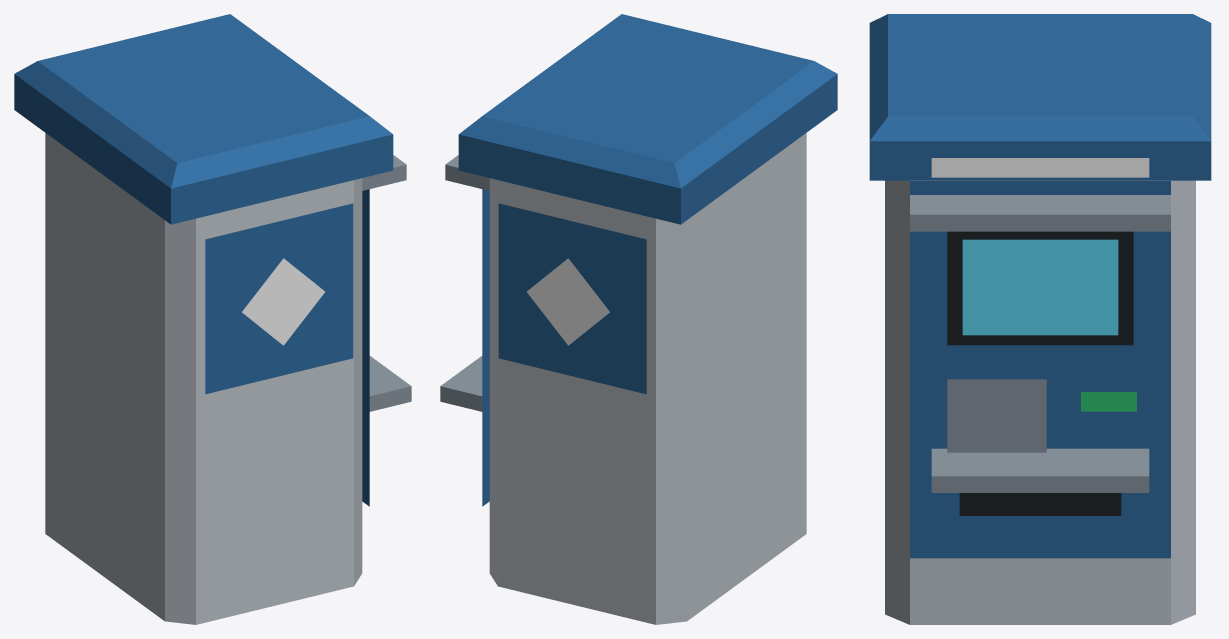
File: atm.glb
3 views of the same model, side by side, from view 1: azimuth 30°, elevation 25°; view 2: azimuth 150°, elevation 25°; view 3: azimuth 270°, elevation 25° (orthographic). The views are drawn at different scales.
Parts seen in each view (by area): view 1: atm; view 2: atm; view 3: atm.
Boxes of the visible parts, bbox=[...] form: atm: bbox=[14, 14, 411, 624]; atm: bbox=[440, 14, 837, 624]; atm: bbox=[869, 14, 1211, 624].
Size of the model in its own units: 0.109 by 0.18 by 0.112.
